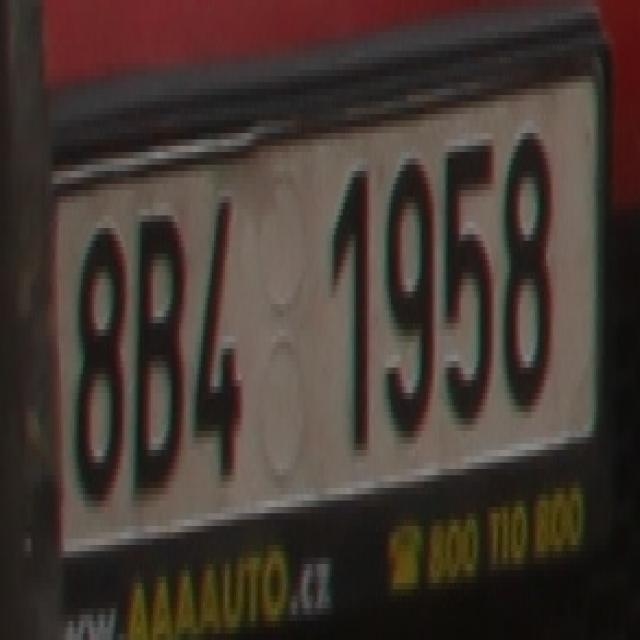1: (332, 158, 374, 450)
4: (190, 190, 245, 482)
5: (441, 133, 494, 424)
8: (74, 222, 127, 514), (502, 114, 555, 406)
9: (384, 152, 434, 444)
B: (133, 190, 186, 494)
